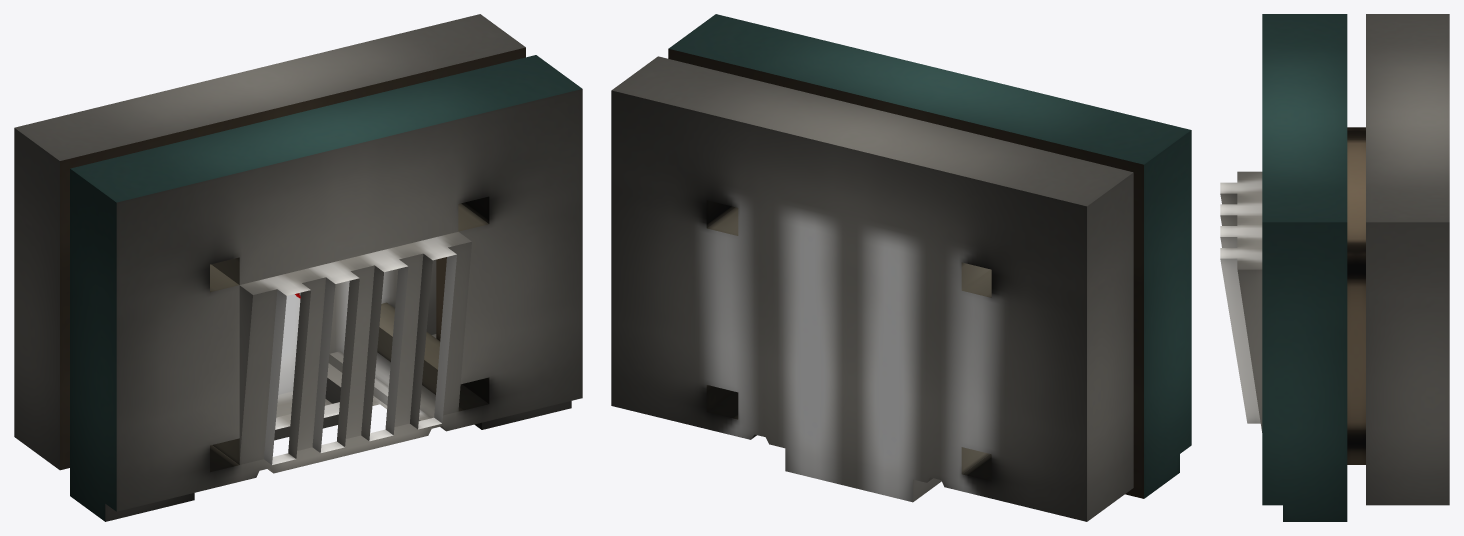
3 views of the same model, side by side, from view 1: azimuth 30°, elevation 25°; view 2: azimuth 150°, elevation 25°; view 3: azimuth 270°, elevation 25° (orthographic). The views are drawn at different scales.
Parts seen in each view (by area): view 1: interior; view 2: interior; view 3: interior.
Boxes of the visible parts, x1,y1,x2,y2 form: interior: (14,14,582,521); interior: (611,14,1191,521); interior: (1220,14,1449,521).
Bounding box in the file's own units: 21.49 × 14.61 × 10.01.
